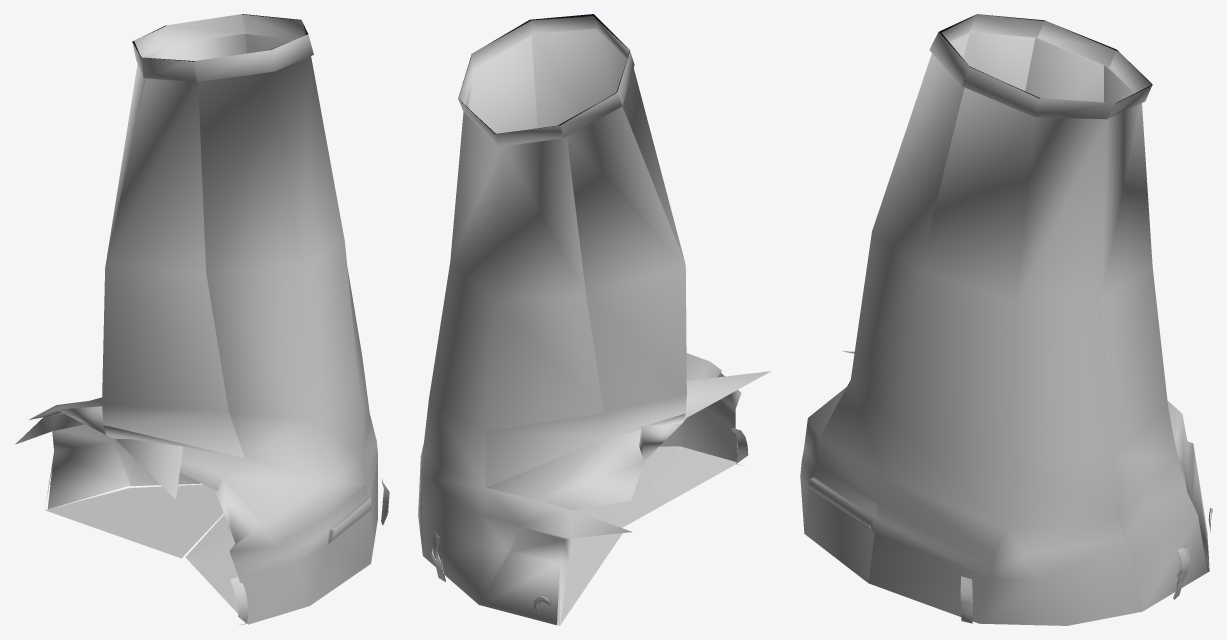
The model's file is right_up_leg.glb.
3 views of the same model, side by side, from view 1: azimuth 30°, elevation 25°; view 2: azimuth 150°, elevation 25°; view 3: azimuth 270°, elevation 25° (orthographic). The views are drawn at different scales.
Parts seen in each view (by area): view 1: shorts-white_RIGHT_UP_LEG; view 2: shorts-white_RIGHT_UP_LEG; view 3: shorts-white_RIGHT_UP_LEG.
Boxes of the visible parts, x1,y1,x2,y2 form: shorts-white_RIGHT_UP_LEG: (14,14,389,625); shorts-white_RIGHT_UP_LEG: (418,14,771,625); shorts-white_RIGHT_UP_LEG: (800,14,1212,625).
Bounding box in the file's own units: 0.2712 × 0.484 × 0.3307.
Materials: 1 (1 with a texture image).
